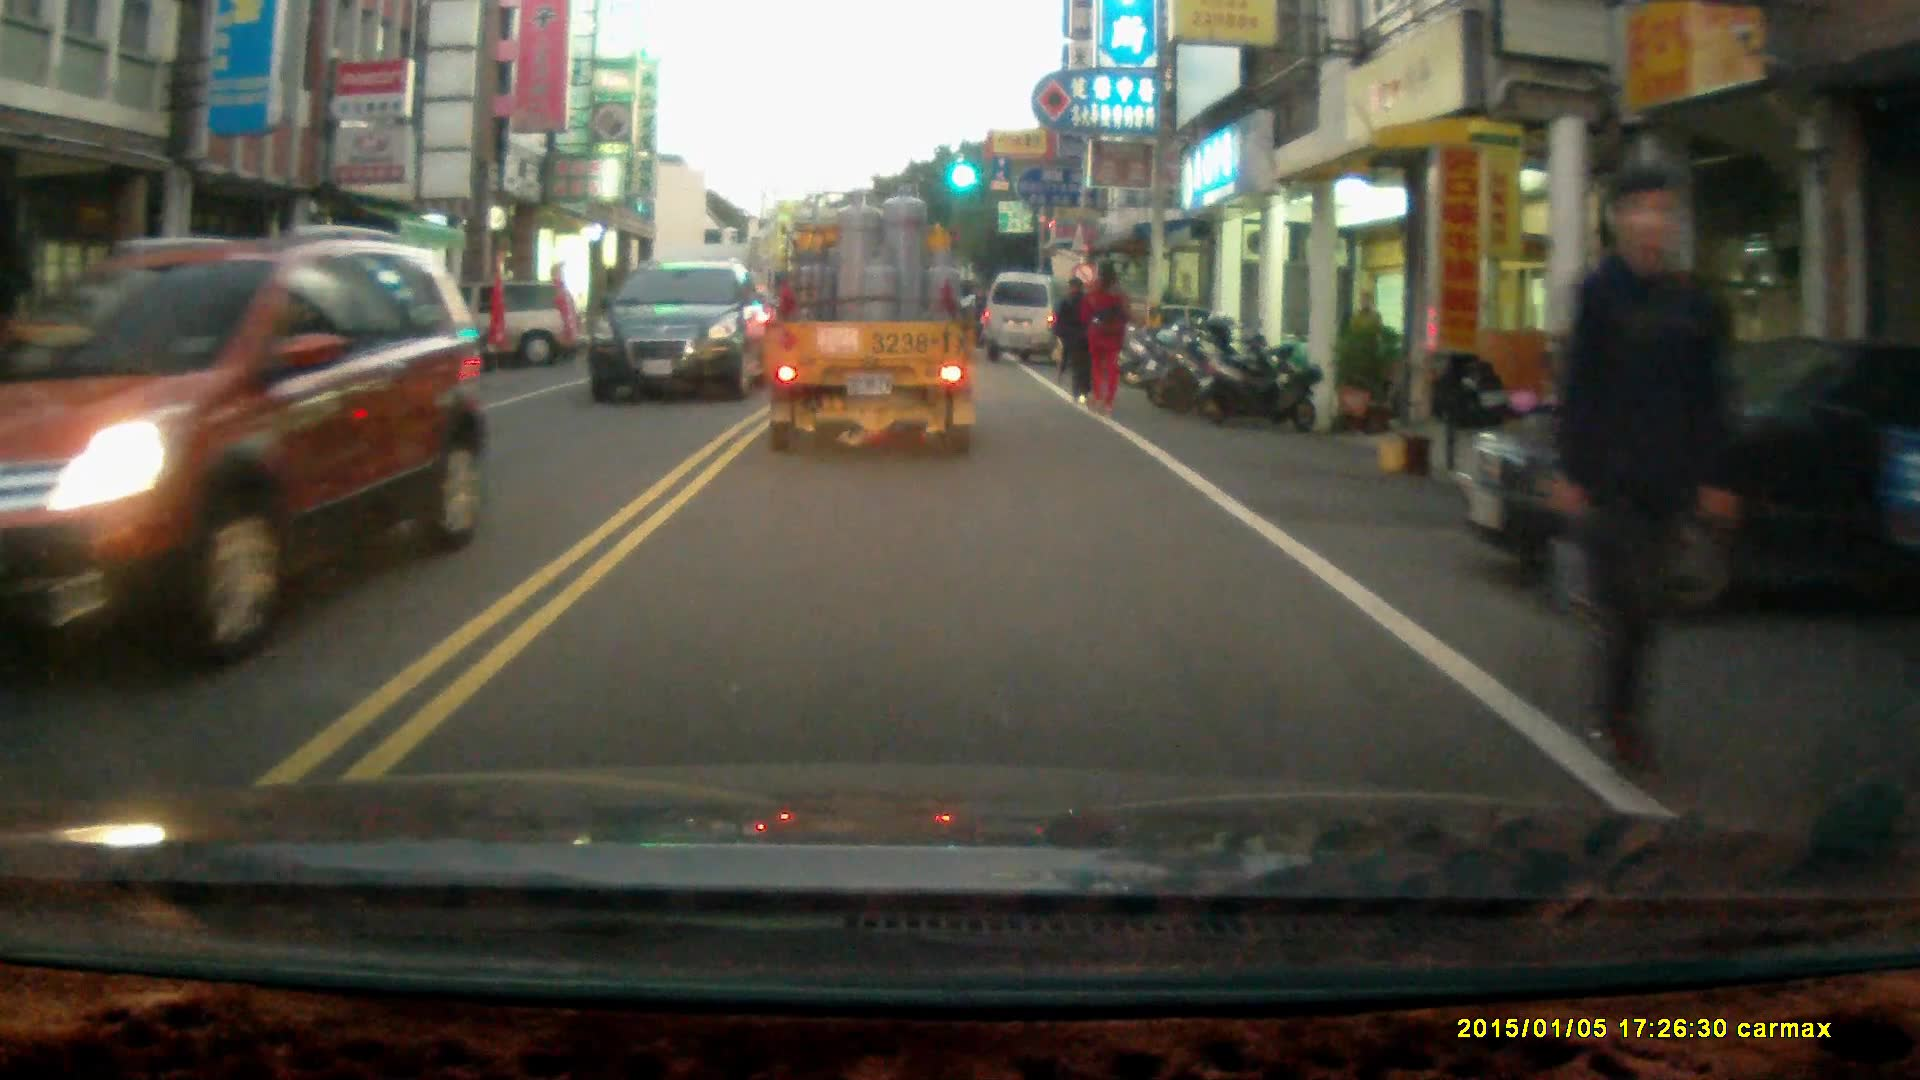pedestrian: (1548, 158, 1744, 799), (1084, 265, 1127, 413), (1058, 274, 1098, 403), (1347, 286, 1383, 381)
vehicle: (1, 225, 490, 678), (1448, 334, 1920, 616), (760, 184, 987, 470), (592, 261, 774, 406), (367, 277, 592, 371), (985, 267, 1076, 362)
